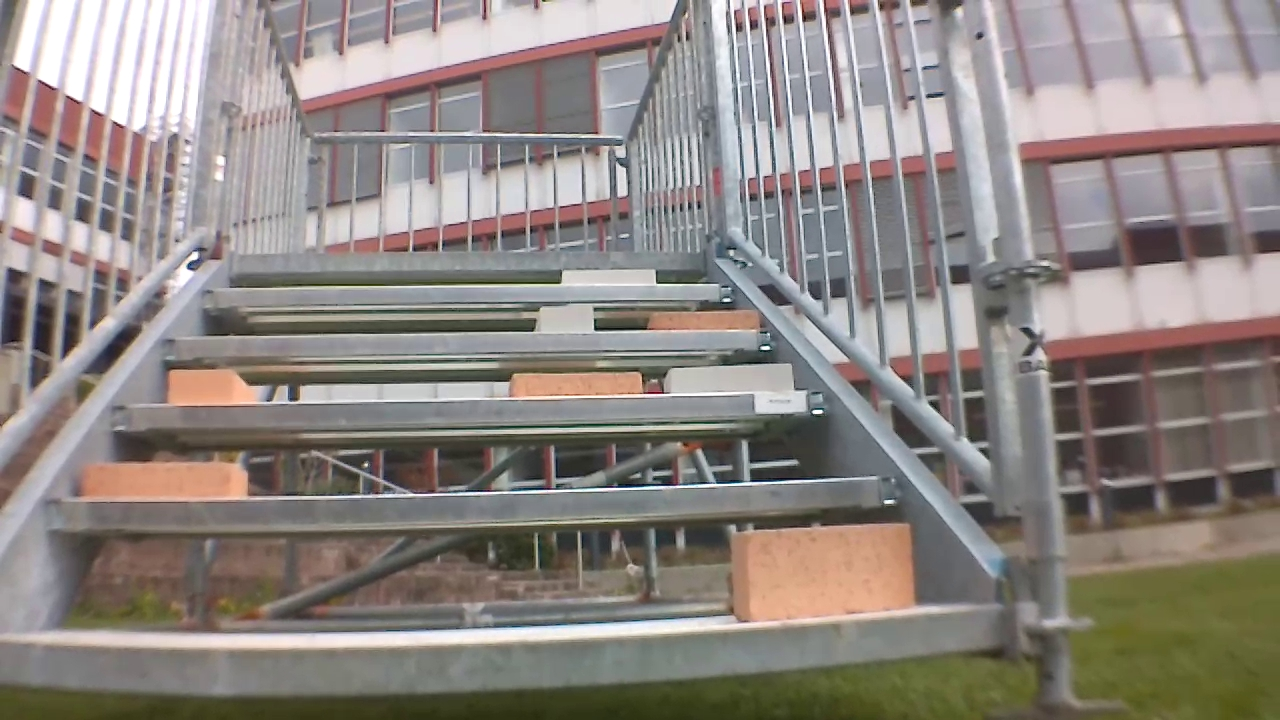brick: (733, 524, 907, 628), (80, 458, 254, 497), (664, 365, 792, 395), (514, 371, 641, 400), (639, 305, 762, 331), (173, 362, 246, 400), (536, 302, 603, 338), (558, 266, 662, 285)
edge: (0, 601, 1029, 692), (48, 476, 903, 531), (104, 389, 831, 435), (162, 326, 784, 359), (200, 280, 734, 309), (229, 248, 711, 273)
stairs: (0, 6, 1081, 717)
steps: (0, 246, 1070, 698)
